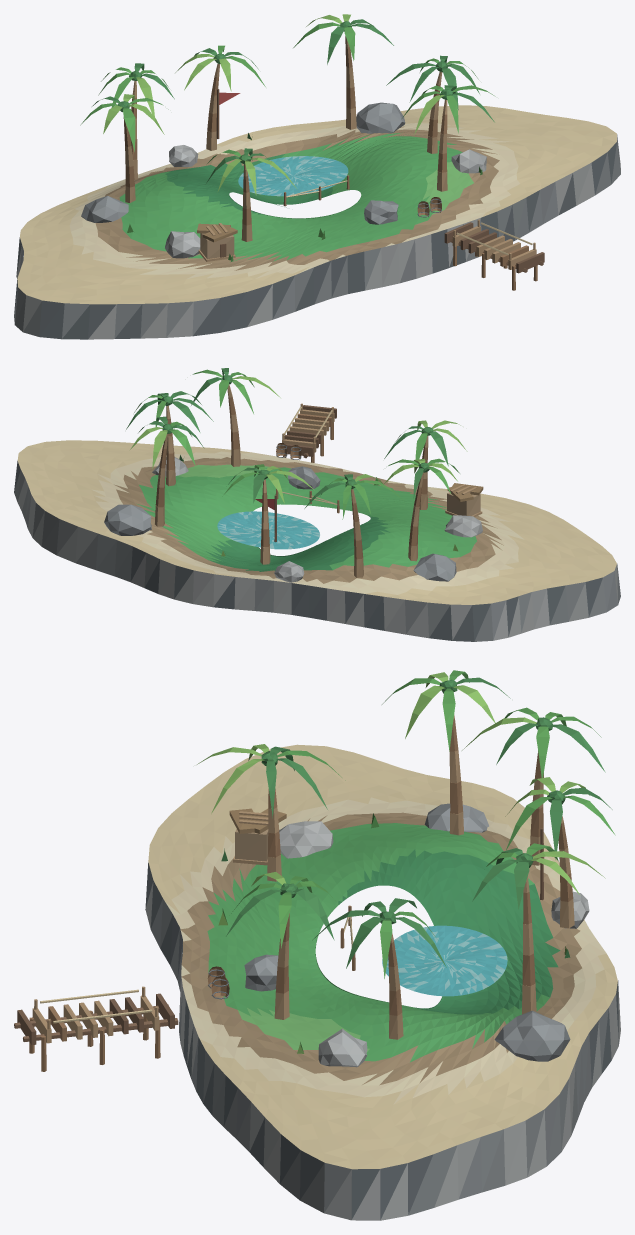
The model's file is island_lagoon.glb.
The picture shows the model from 3 angles, top to bottom: view 1: azimuth 30°, elevation 25°; view 2: azimuth 150°, elevation 25°; view 3: azimuth 270°, elevation 25°; orthographic projection. The views are drawn at different scales.
Parts seen in each view (by area): view 1: Lagoon_kidney_terrain, Lagoon_shore_shelf, Lagoon_inner_pool, Lagoon_cove_rock_2, Lagoon_cove_rock_0, Lagoon_cove_rock_1, Lagoon_cove_rock_4, Lagoon_cove_rock_3, Lagoon_fishers_hut_walls, Lagoon_cove_rock_5; view 2: Lagoon_kidney_terrain, Lagoon_shore_shelf, Lagoon_inner_pool, Lagoon_cove_rock_2, Lagoon_cove_rock_0, Lagoon_cove_rock_1, Lagoon_fishers_hut_walls, Lagoon_cove_rock_4, Lagoon_cove_rock_5; view 3: Lagoon_kidney_terrain, Lagoon_shore_shelf, Lagoon_inner_pool, Lagoon_cove_rock_2, Lagoon_cove_rock_1, Lagoon_cove_rock_3, Lagoon_cove_rock_0, Lagoon_cove_rock_4, Lagoon_fishers_hut_walls.
Boxes of the visible parts, x1,y1,x2,y2 form: Lagoon_kidney_terrain: (17,105,616,304); Lagoon_shore_shelf: (14,134,620,339); Lagoon_inner_pool: (238,156,348,196); Lagoon_cove_rock_2: (356,102,405,133); Lagoon_cove_rock_0: (81,195,128,222); Lagoon_cove_rock_1: (165,231,200,258); Lagoon_cove_rock_4: (364,200,398,224); Lagoon_cove_rock_3: (451,149,486,173); Lagoon_fishers_hut_walls: (200,233,234,258); Lagoon_cove_rock_5: (169,145,198,166); Lagoon_kidney_terrain: (17,440,616,604); Lagoon_shore_shelf: (14,461,620,641); Lagoon_inner_pool: (217,511,319,549); Lagoon_cove_rock_2: (104,504,151,535); Lagoon_cove_rock_0: (413,553,456,581); Lagoon_cove_rock_1: (444,515,482,537); Lagoon_fishers_hut_walls: (447,492,480,515); Lagoon_cove_rock_4: (288,466,320,489); Lagoon_cove_rock_5: (274,561,304,582); Lagoon_kidney_terrain: (148,744,617,1169); Lagoon_shore_shelf: (145,862,620,1220); Lagoon_inner_pool: (382,925,507,996); Lagoon_cove_rock_2: (494,1010,570,1061); Lagoon_cove_rock_1: (279,821,333,858); Lagoon_cove_rock_3: (318,1028,367,1067); Lagoon_cove_rock_0: (424,803,488,832); Lagoon_cove_rock_4: (244,954,278,991); Lagoon_fishers_hut_walls: (235,829,268,861).
Size of the model in its own units: 26.84 by 6.54 by 15.97.
